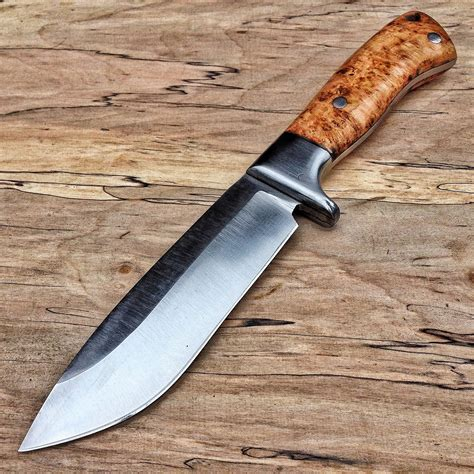knife: (18, 9, 458, 453)
